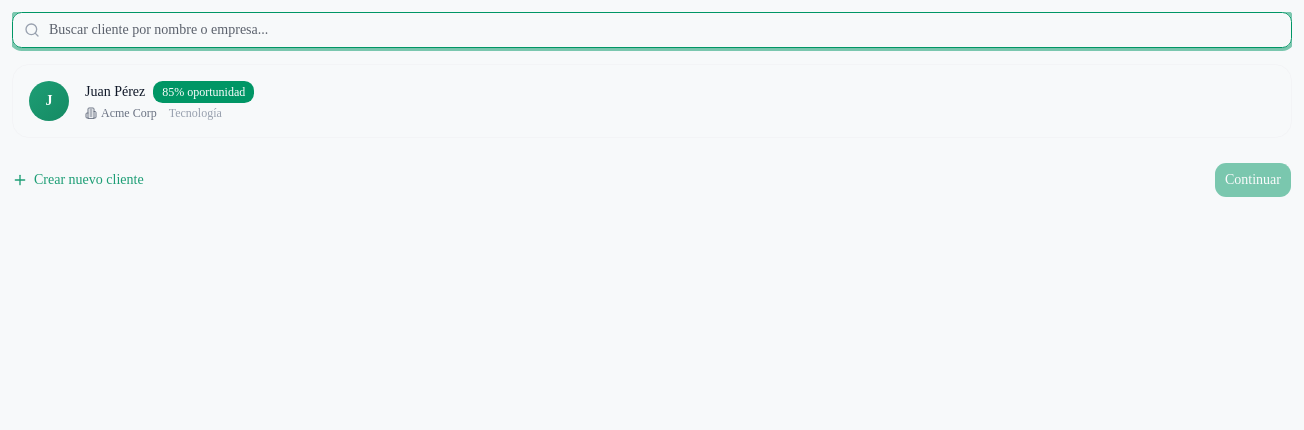
Test: Step1Client — "Analizar" button (selected-client flow) › shows AnalysisCard after successful analysis on selected client
The image size is (1304, 430).
Click the text "Juan Pérez".
click(115, 92)  # box x1=85 y1=82 x2=145 y2=102
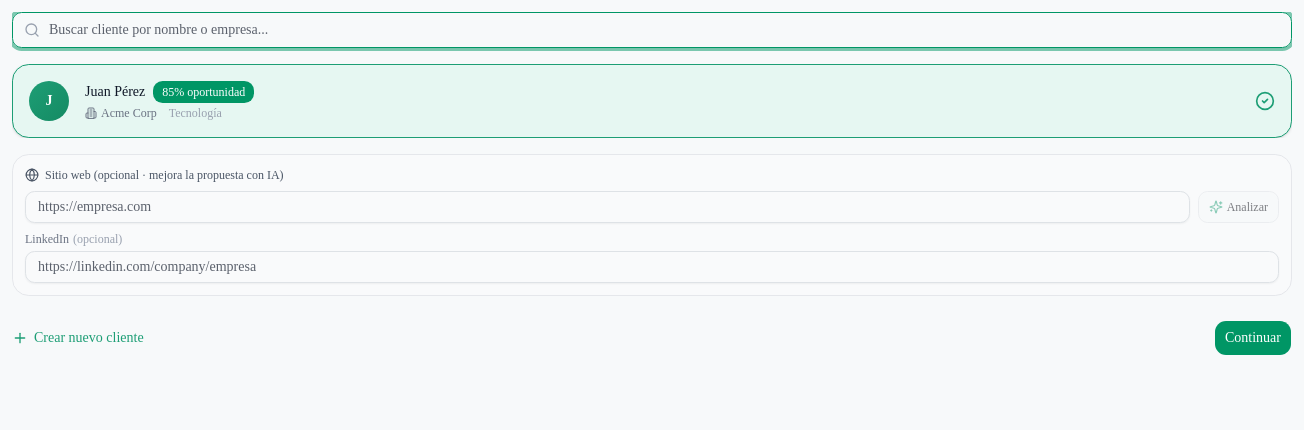
Type "https://acme.com" into the field with placeholder "https://empresa.com".
click(607, 207); type("https://acme.com")  # box x1=25 y1=191 x2=1190 y2=223
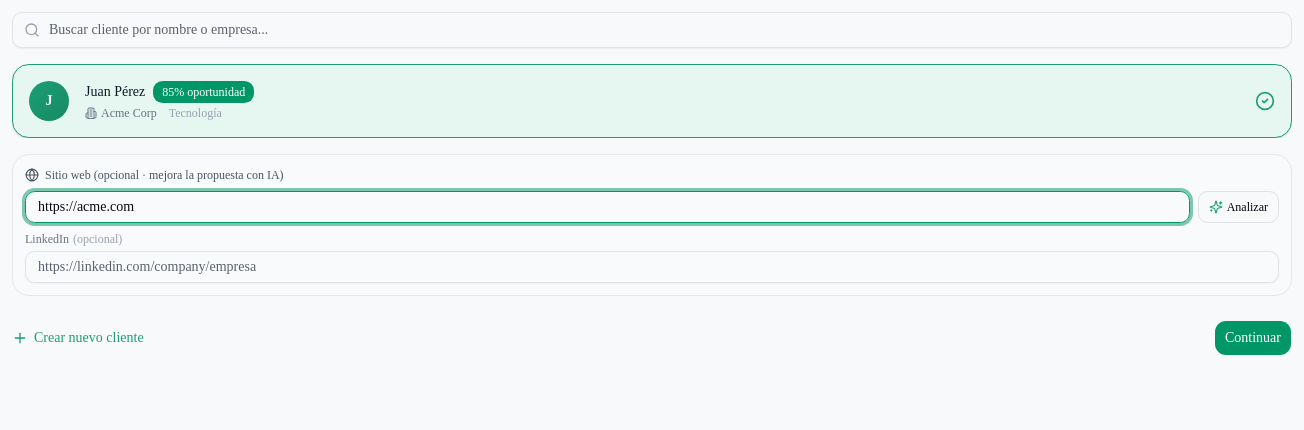
Click the button "Analizar".
click(1238, 207)  # box x1=1198 y1=191 x2=1279 y2=223
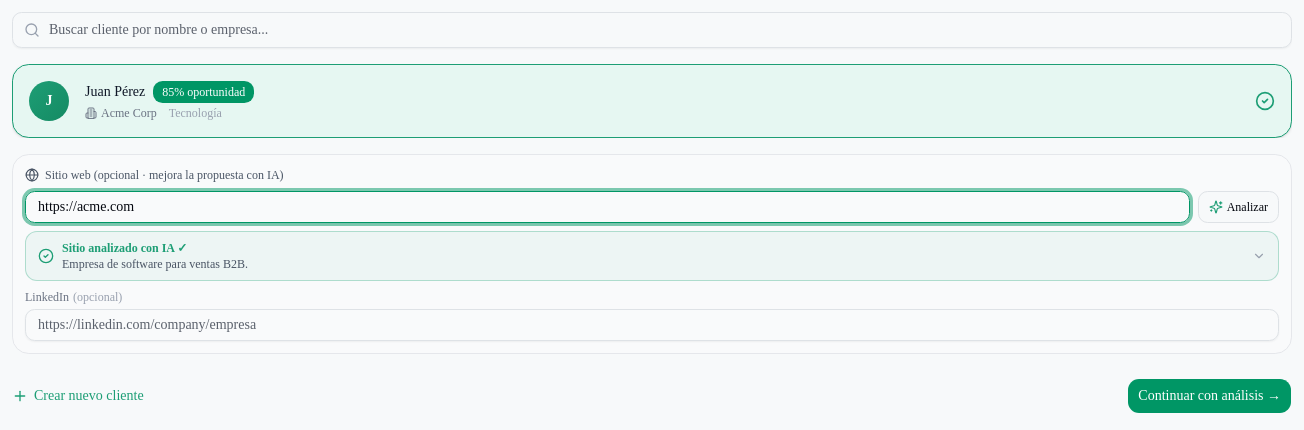
Result: the text "Sitio analizado con IA ✓" is shown at x1=62 y1=241 x2=187 y2=255
